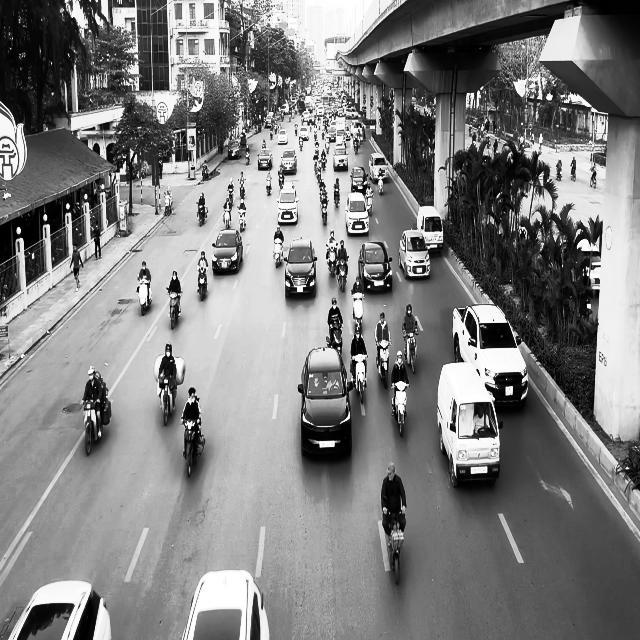car: (8, 580, 112, 640), (182, 569, 270, 639), (298, 346, 352, 458), (284, 236, 317, 298), (358, 241, 393, 292), (398, 228, 431, 279), (211, 228, 243, 274), (344, 191, 369, 236), (276, 184, 299, 225), (368, 152, 389, 182), (350, 166, 368, 193), (281, 148, 297, 174), (257, 148, 273, 170), (227, 139, 241, 159)
motorbike: (382, 508, 406, 584), (181, 401, 205, 477), (81, 397, 103, 455), (350, 354, 368, 416), (390, 382, 410, 436), (158, 373, 176, 425), (402, 323, 418, 373), (376, 340, 392, 389), (166, 287, 182, 329), (136, 278, 152, 316), (328, 320, 343, 354), (352, 289, 364, 329), (336, 256, 348, 292), (196, 266, 208, 300), (326, 245, 337, 276), (273, 238, 283, 267), (196, 201, 206, 226), (320, 195, 328, 225), (223, 203, 231, 230), (238, 205, 246, 231), (164, 193, 173, 216), (366, 192, 374, 216), (377, 171, 384, 195), (333, 185, 340, 207), (266, 174, 272, 195), (278, 168, 284, 189), (590, 168, 596, 188), (570, 163, 576, 180)
